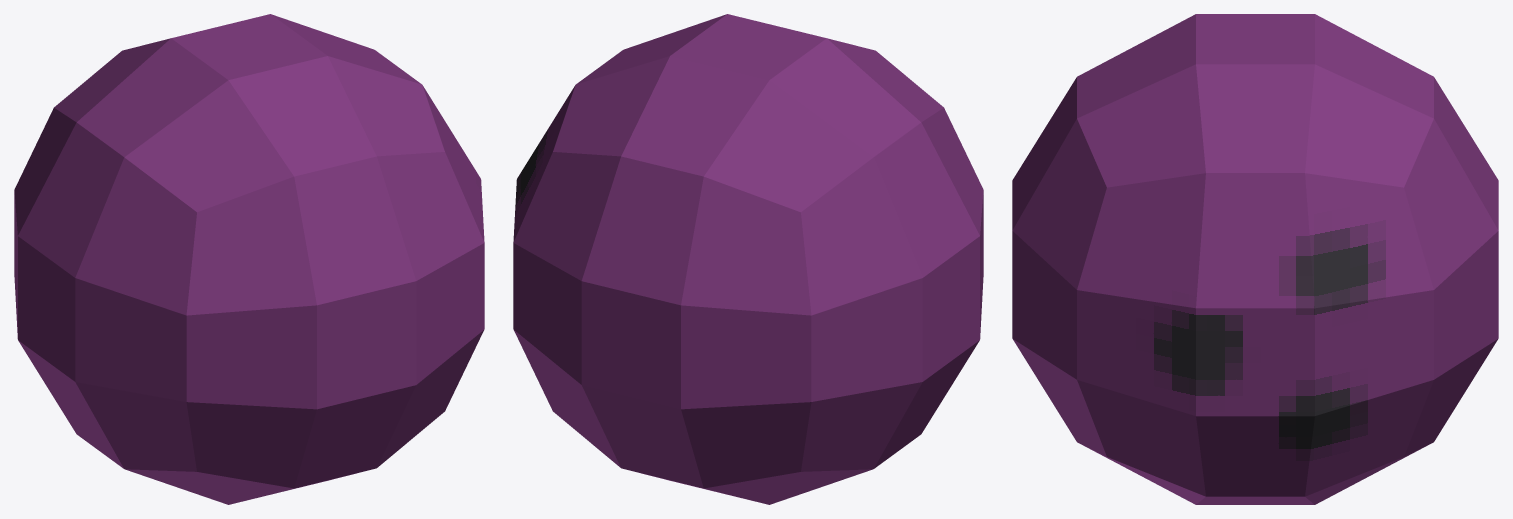
The model's file is kula.fbx.
3 renders of one model, left to right at view 1: azimuth 30°, elevation 25°; view 2: azimuth 150°, elevation 25°; view 3: azimuth 270°, elevation 25°, orthographic. The views are drawn at different scales.
Visible parts, largest first — view 1: Roundcube.001; view 2: Roundcube.001; view 3: Roundcube.001.
Boxes of the visible parts, left/top/right/bottom form: Roundcube.001: left=14, top=14, right=484, bottom=504; Roundcube.001: left=513, top=14, right=983, bottom=504; Roundcube.001: left=1012, top=14, right=1498, bottom=504.
Bounding box in the file's own units: 378 × 378 × 378.
